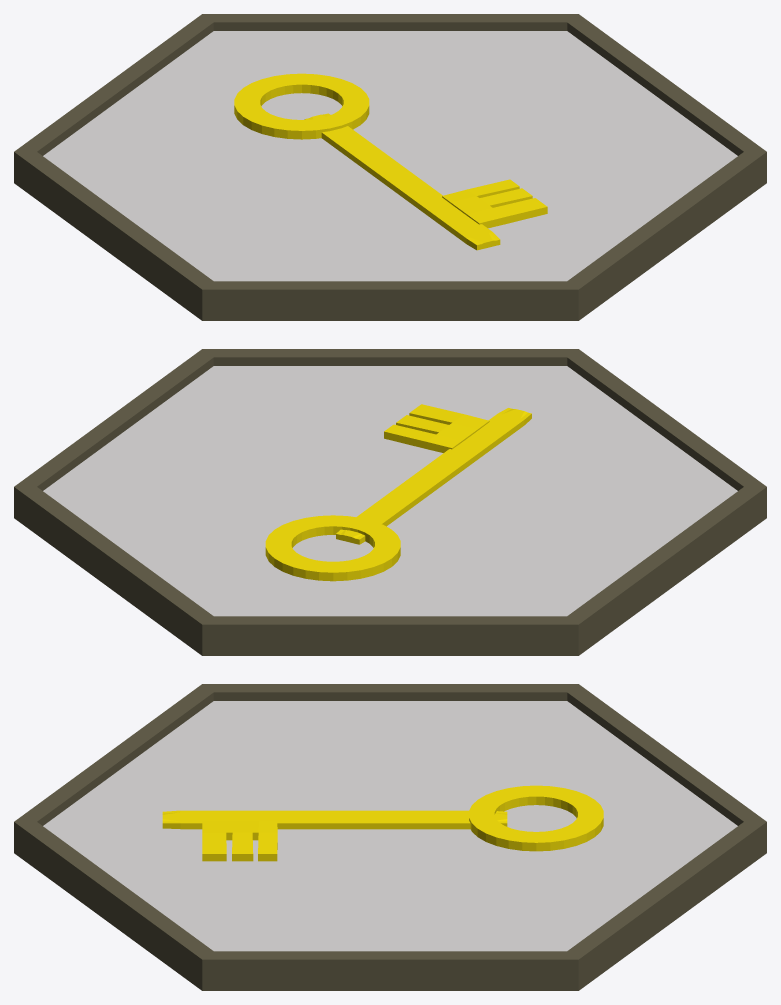
Rendered from KeyDice.fbx.
The picture shows the model from 3 angles, top to bottom: view 1: azimuth 30°, elevation 25°; view 2: azimuth 150°, elevation 25°; view 3: azimuth 270°, elevation 25°; orthographic projection.
Parts seen in each view (by area): view 1: Key; view 2: Key; view 3: Key.
Part boxes in pixels (x1=…): Key: x1=14, y1=14, x2=766, y2=320; Key: x1=14, y1=349, x2=766, y2=655; Key: x1=14, y1=684, x2=766, y2=990.
Bounding box in the file's own units: 314 × 16.69 × 363.
